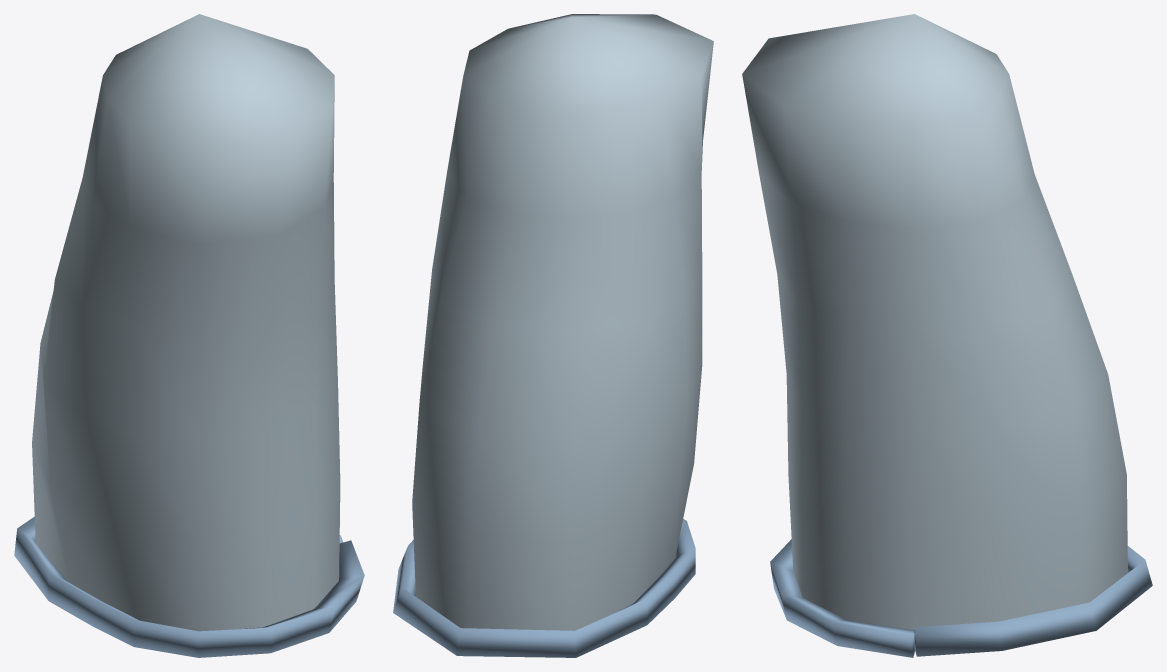
The model's file is platinum_armor_boot.R.glb.
3 renders of one model, left to right at view 1: azimuth 30°, elevation 25°; view 2: azimuth 150°, elevation 25°; view 3: azimuth 270°, elevation 25°, orthographic. The views are drawn at different scales.
Visible parts, largest first — view 1: platinum_armor_boot.R; view 2: platinum_armor_boot.R; view 3: platinum_armor_boot.R.
Boxes of the visible parts, bbox=[...] form: platinum_armor_boot.R: bbox=[14, 14, 364, 657]; platinum_armor_boot.R: bbox=[393, 14, 713, 657]; platinum_armor_boot.R: bbox=[742, 14, 1152, 657].
Size of the model in its own units: 0.1433 by 0.2958 by 0.1912.
